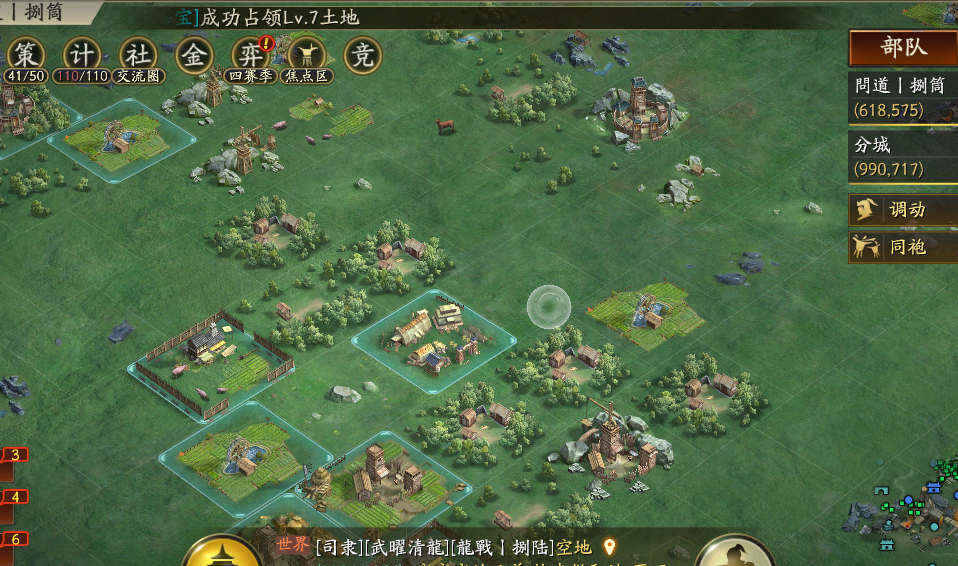lv05_wood_neutral: (603, 334, 797, 459), (387, 370, 571, 489), (482, 311, 656, 433), (180, 184, 354, 290), (305, 210, 472, 317)
